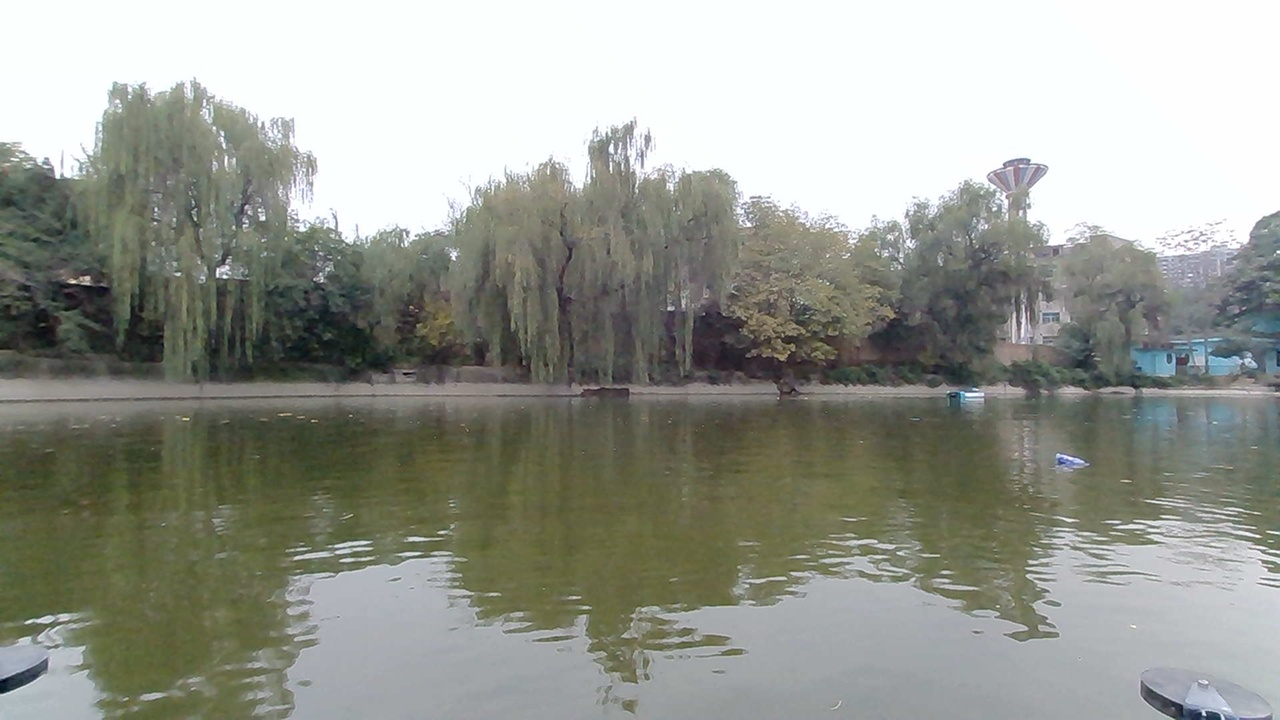bottle: (1042, 446, 1087, 480)
